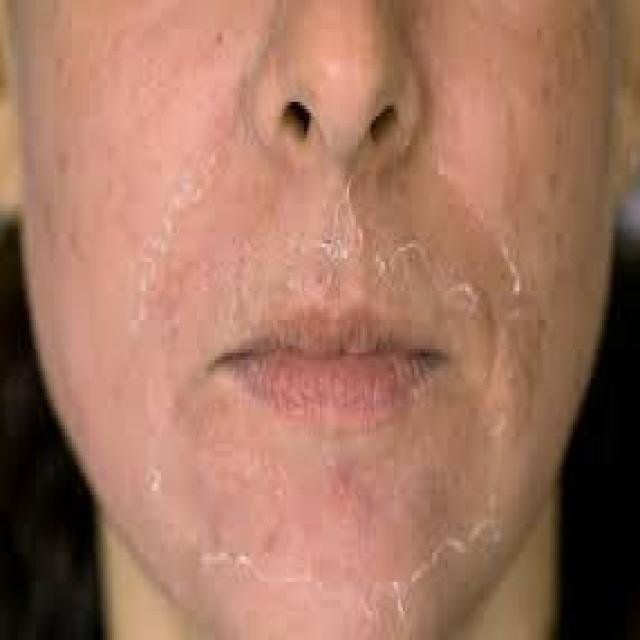dry: (137, 398, 507, 598), (274, 176, 450, 308), (119, 146, 220, 333)
